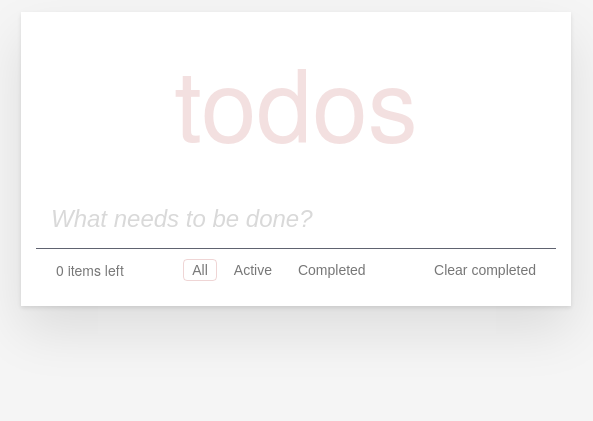
Test: ToDo App › adds a new todo
This screenshot has width=593, height=421.
Step 1. Type "Test task" into the field with placeholder "What needs to be done?" → (296, 219), box left=36, top=190, right=556, bottom=248
Then press Enter
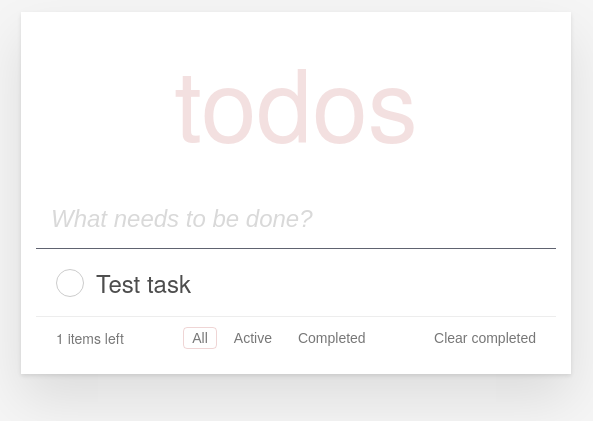
Check: the list item "Test task" is shown, box left=36, top=249, right=556, bottom=317
